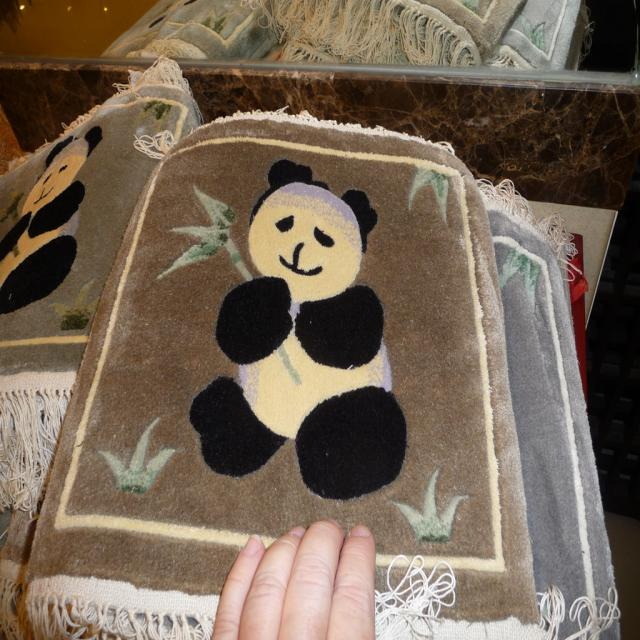panda: (185, 159, 407, 501), (0, 130, 102, 314)
